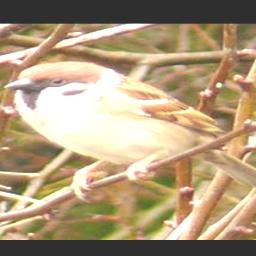Sparrow: (0, 61, 256, 202)
